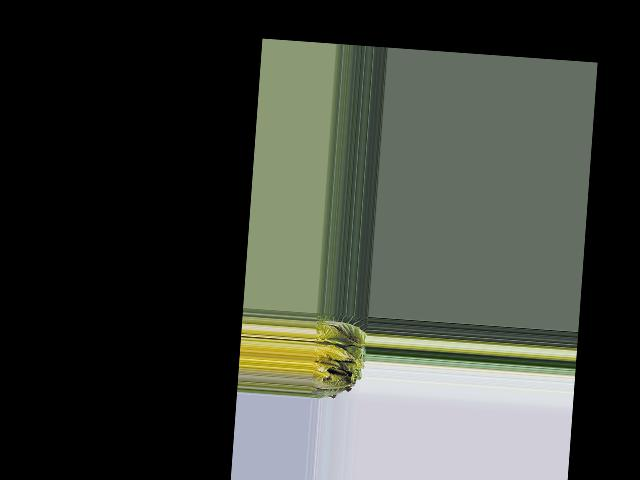lettuce: (310, 313, 366, 398)
